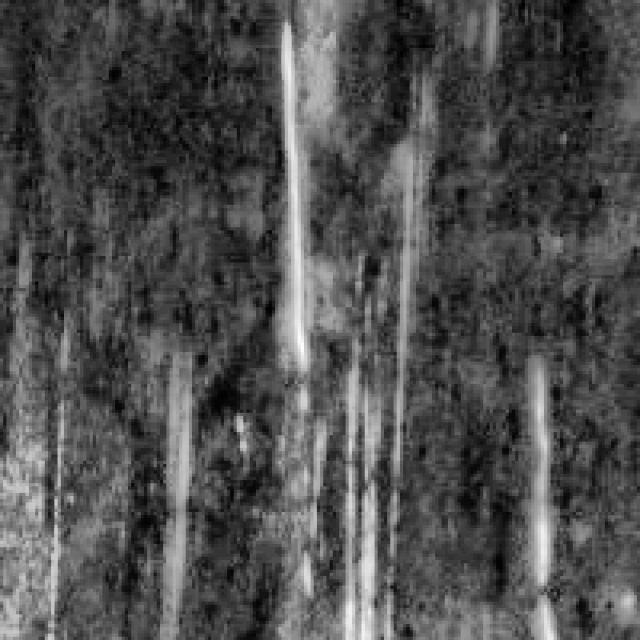Inclusion: (340, 237, 410, 630), (262, 9, 314, 372), (508, 352, 566, 634), (150, 362, 196, 627)
